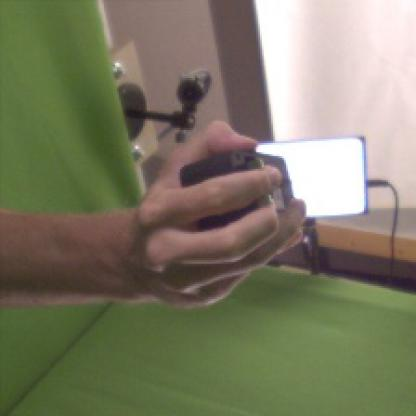Hand: (124, 120, 305, 309)
